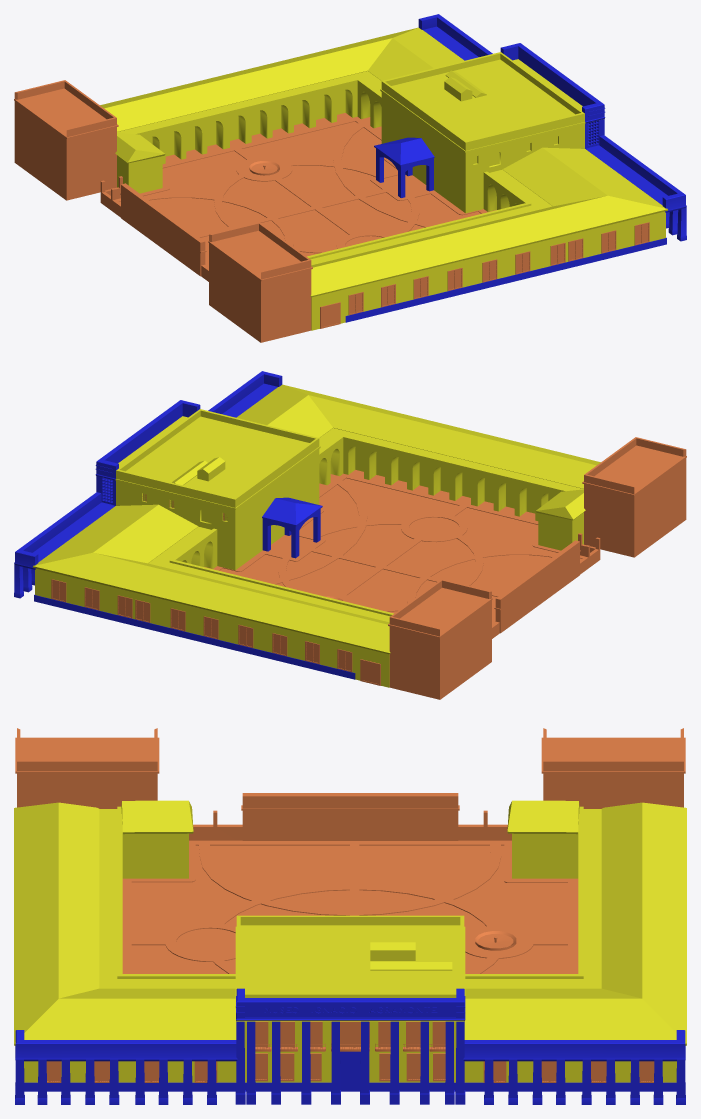
File: Museum.fbx
3 renders of one model, top to bottom at view 1: azimuth 30°, elevation 25°; view 2: azimuth 150°, elevation 25°; view 3: azimuth 270°, elevation 25°, orthographic. The views are drawn at different scales.
Parts seen in each view (by area): view 1: midle, back, front; view 2: midle, back, front; view 3: midle, back, front.
Boxes of the visible parts, x1,y1,x2,y2 form: midle: (100, 27, 667, 330); back: (14, 80, 649, 342); front: (345, 14, 686, 322); midle: (33, 384, 600, 687); back: (51, 437, 686, 699); front: (14, 371, 355, 679); midle: (14, 800, 686, 1082); back: (15, 728, 685, 1082); front: (15, 988, 685, 1104).
Size of the model in its own units: 58.91 by 10.29 by 59.58.
